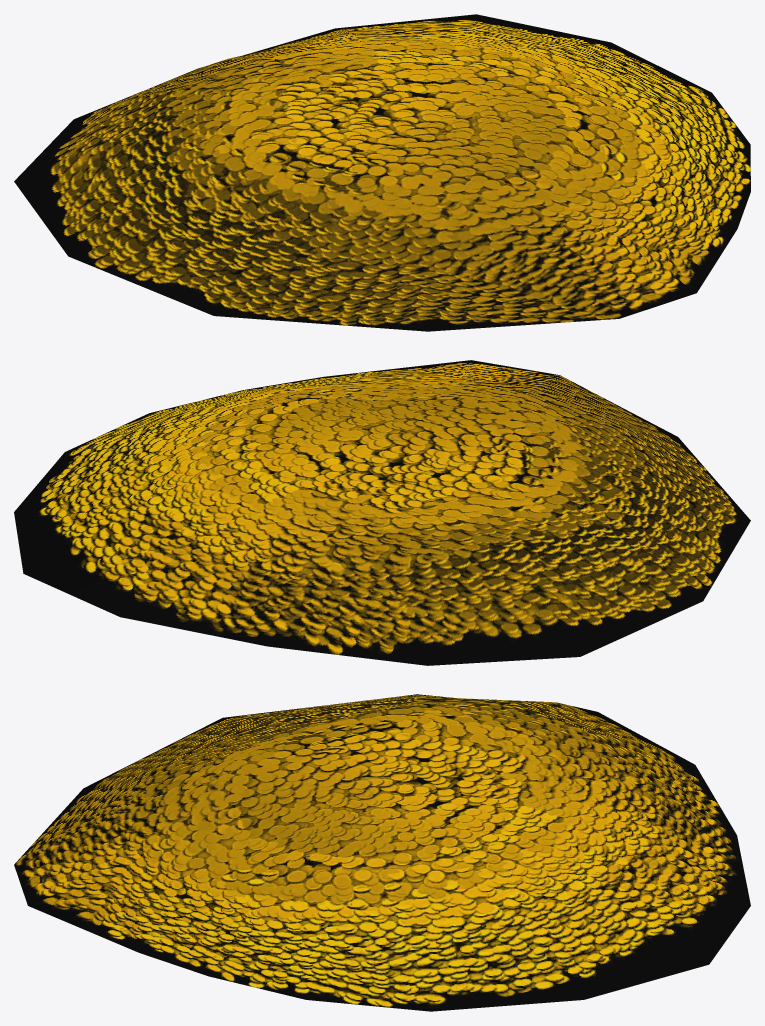
The model's file is INST_SM_GOLDPILE_SMALLB.fbx.
3 renders of one model, top to bottom at view 1: azimuth 30°, elevation 25°; view 2: azimuth 150°, elevation 25°; view 3: azimuth 270°, elevation 25°, orthographic. The views are drawn at different scales.
Parts seen in each view (by area): view 1: INST_SM_GOLDPILE_SMALLB; view 2: INST_SM_GOLDPILE_SMALLB; view 3: INST_SM_GOLDPILE_SMALLB.
Part boxes in pixels (x1,y1,x2,y2): INST_SM_GOLDPILE_SMALLB: (14, 14, 750, 331); INST_SM_GOLDPILE_SMALLB: (14, 360, 750, 665); INST_SM_GOLDPILE_SMALLB: (14, 694, 750, 1011).
Size of the model in its own units: 67500 by 6570 by 66250.
Materials: 1 (1 with a texture image).
